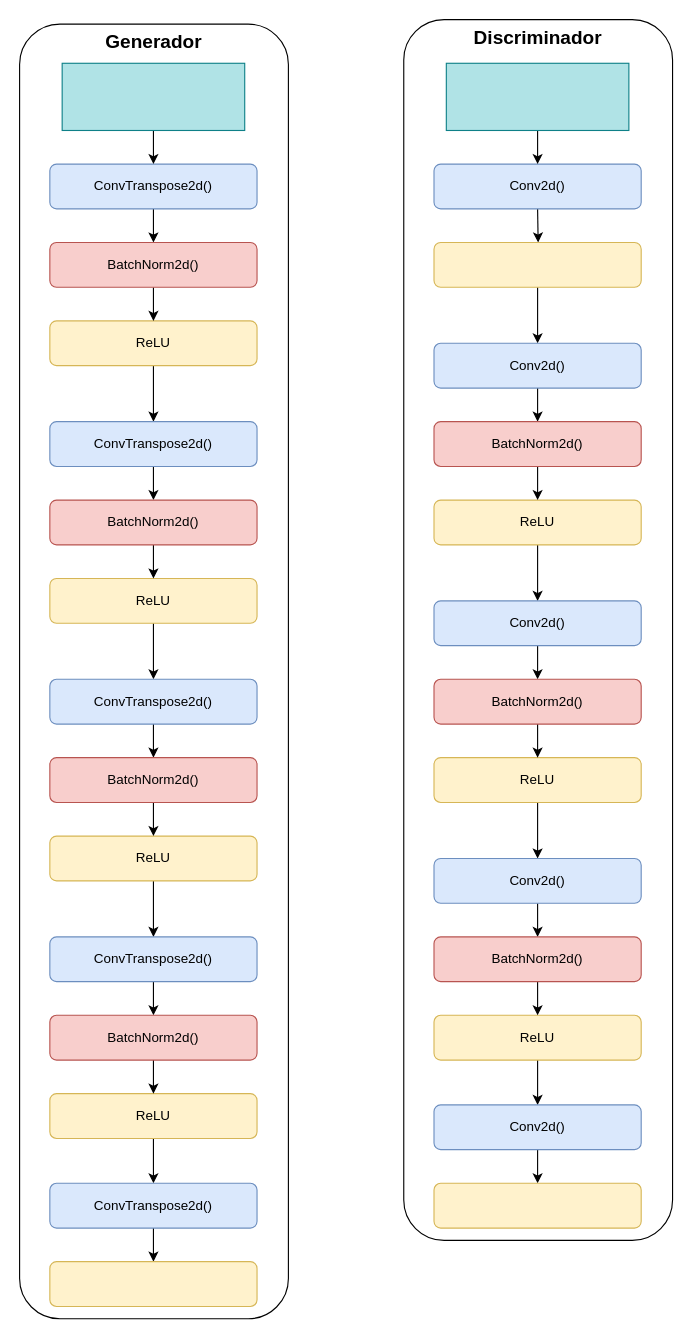
The diagram is 692 pixels wide and 1338 high, and some of its shapes have lost their labels. Each missing label, with the centre of its shape:
"Entrada" goes at [537,96].
"Entrada (ruido aleatorio)" goes at [153,96].
"LeakyReLU" goes at [537,264].
"Sigmoide" goes at [153,1283].
"Tanh" goes at [537,1205].
